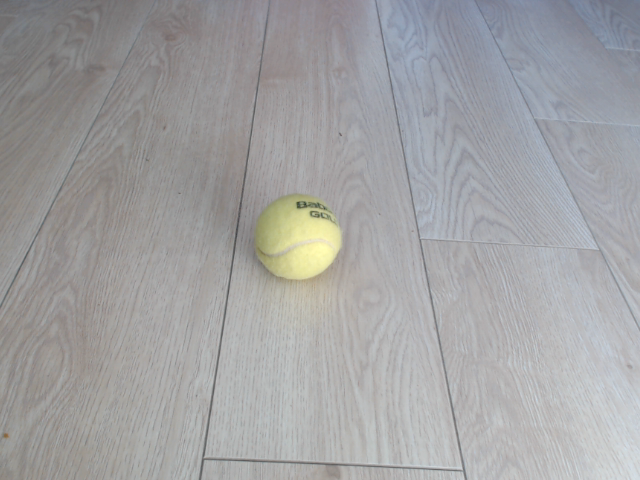ball: (251, 190, 344, 282)
